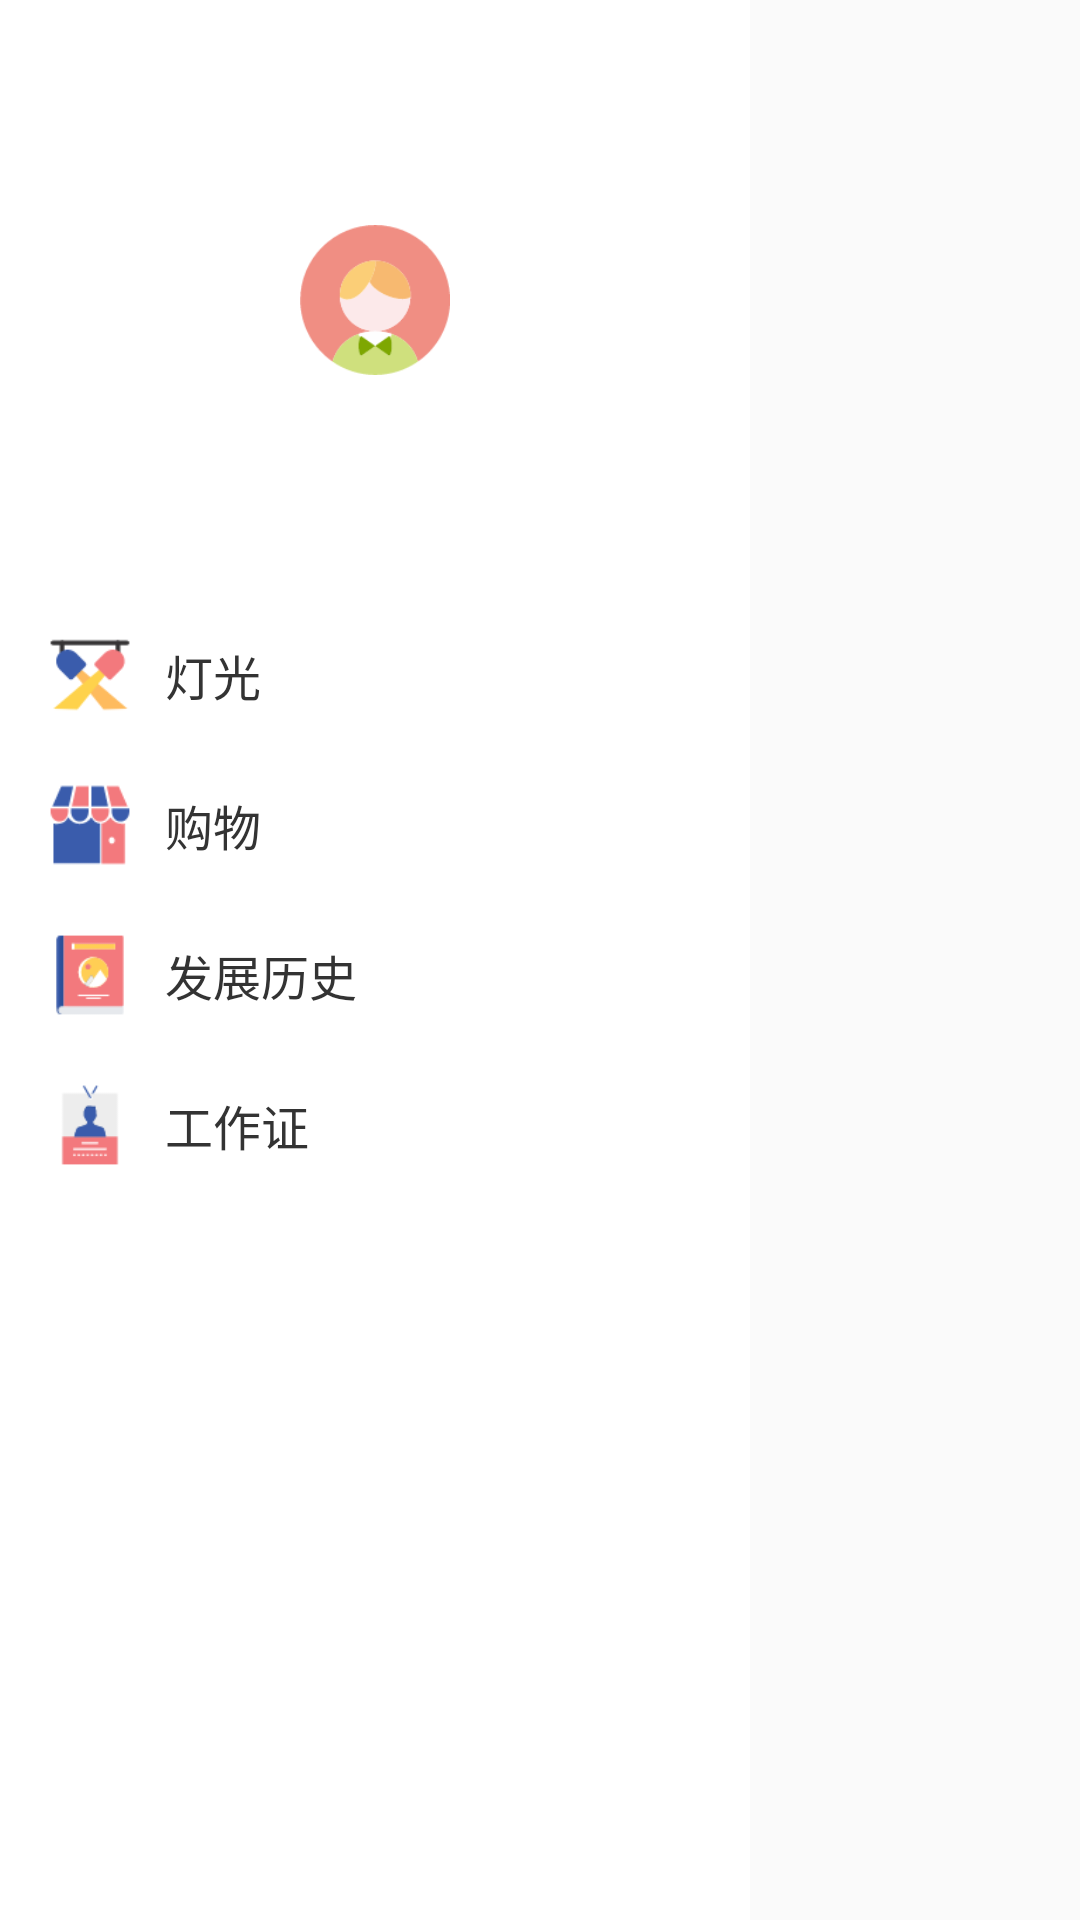

Locate icon controls on the screen. Image size 1080px×1920px, boxes as [left=x1, top=y1, right=x2, bottom=y2].
head: [left=300, top=225, right=450, bottom=375]
shop: [left=50, top=785, right=130, bottom=865]
work card: [left=62, top=1085, right=118, bottom=1165]
